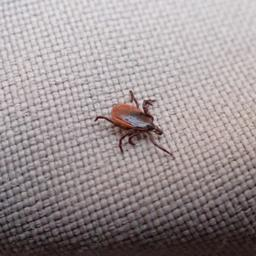Ixodes scapularis: (94, 91, 172, 157)
